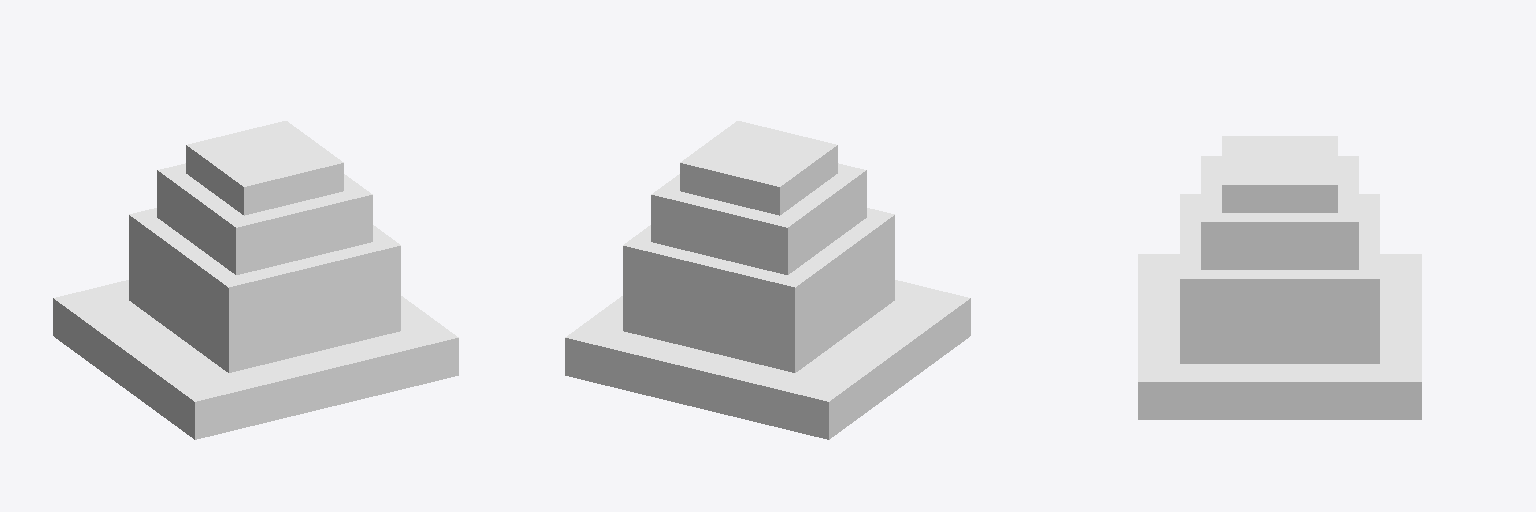
The model's file is LuckyTower0_Bottom.obj.
3 renders of one model, left to right at view 1: azimuth 30°, elevation 25°; view 2: azimuth 150°, elevation 25°; view 3: azimuth 270°, elevation 25°, orthographic.
Parts seen in each view (by area): view 1: LuckyTower0_Bottom; view 2: LuckyTower0_Bottom; view 3: LuckyTower0_Bottom.
Boxes of the visible parts, x1,y1,x2,y2 form: LuckyTower0_Bottom: [53, 121, 458, 439]; LuckyTower0_Bottom: [565, 121, 970, 439]; LuckyTower0_Bottom: [1138, 136, 1421, 419].
Bounding box in the file's own units: 29 × 21 × 27.